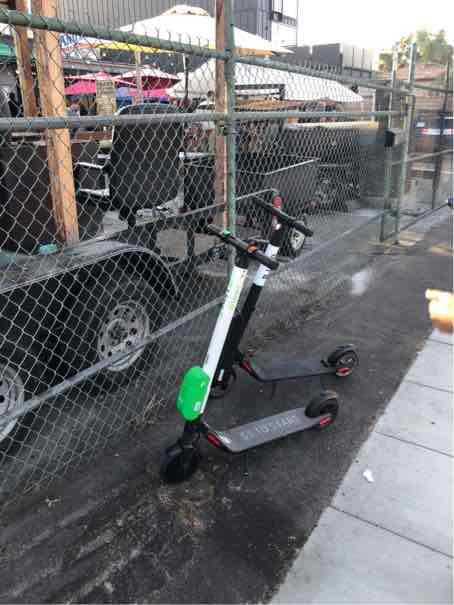scooter: (160, 208, 361, 469)
